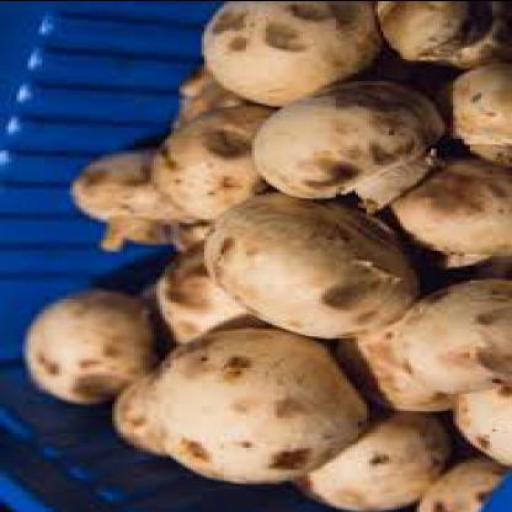biodegradable: (143, 322, 369, 480), (198, 192, 420, 335), (245, 78, 445, 212), (196, 1, 378, 104), (286, 408, 450, 506), (146, 98, 271, 222), (20, 286, 151, 401), (378, 154, 509, 266), (389, 276, 509, 391), (325, 313, 453, 409), (67, 143, 179, 252), (157, 240, 263, 342), (372, 1, 510, 68), (436, 62, 509, 162), (414, 454, 510, 511), (447, 376, 509, 462), (109, 370, 170, 450), (174, 64, 244, 122), (134, 278, 174, 352), (372, 54, 454, 89), (168, 214, 204, 251)
